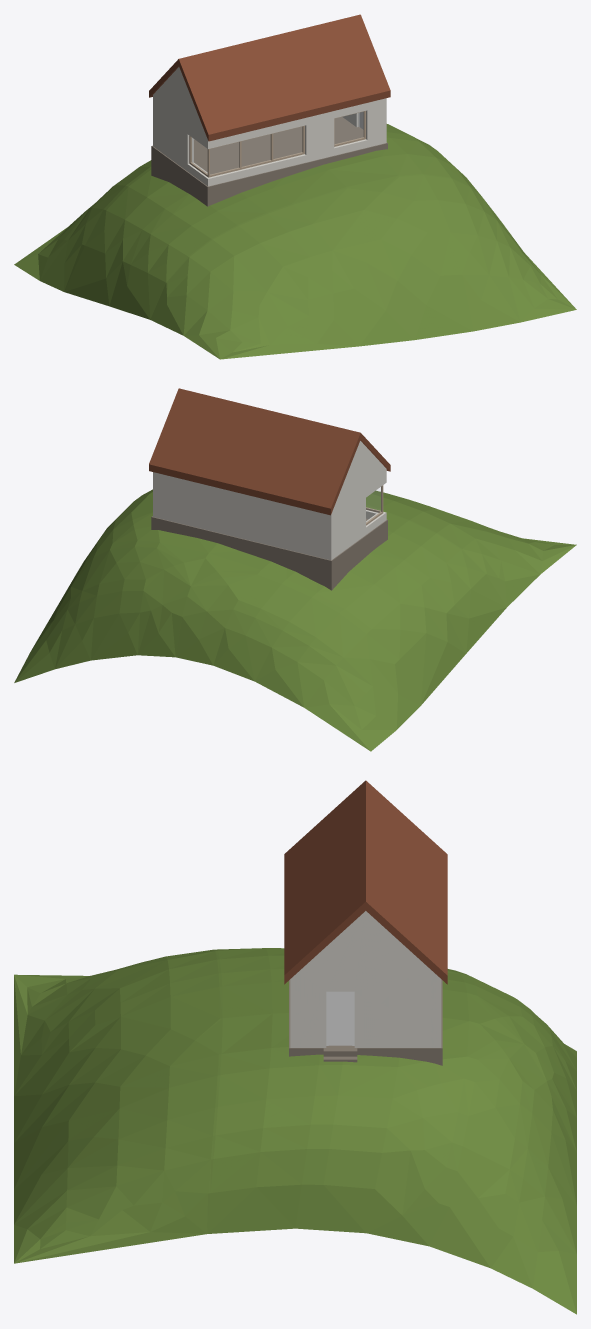
The model's file is IfcOpenHouse_buggy.gltf.
3 renders of one model, top to bottom at view 1: azimuth 30°, elevation 25°; view 2: azimuth 150°, elevation 25°; view 3: azimuth 270°, elevation 25°, orthographic. The views are drawn at different scales.
Visible parts, largest first — view 1: 3qGRFo0c5BxujvFRbsxaUk, 2FXcmLnmzDkvJMAGEXAVs0, 1NJPDRc3DDJh7rTsFCiSGq, 2tHa09veL10P9$ol9urWrT, 2DLuRGS9n41v3mwi$qFb98; view 2: 3qGRFo0c5BxujvFRbsxaUk, 18N1a2Stv7sxqrrx7MV9nk, 2QWXTZZeTC6Bkze5LSo5bN, 1NJPDRc3DDJh7rTsFCiSGq, 2DLuRGS9n41v3mwi$qFb98; view 3: 3qGRFo0c5BxujvFRbsxaUk, 0_LDtxH_XBNOcVliPeWOvq, 2FXcmLnmzDkvJMAGEXAVs0, 18N1a2Stv7sxqrrx7MV9nk, 1NJPDRc3DDJh7rTsFCiSGq, 14fJQk5KjC6AmMSkpZnWCw, 2tHa09veL10P9$ol9urWrT, 2QWXTZZeTC6Bkze5LSo5bN.
Part boxes in pixels (x1=…): 3qGRFo0c5BxujvFRbsxaUk: x1=14, y1=124, x2=576, y2=359; 2FXcmLnmzDkvJMAGEXAVs0: x1=178, y1=14, x2=390, y2=141; 1NJPDRc3DDJh7rTsFCiSGq: x1=151, y1=117, x2=387, y2=206; 2tHa09veL10P9$ol9urWrT: x1=204, y1=98, x2=386, y2=186; 2DLuRGS9n41v3mwi$qFb98: x1=156, y1=67, x2=207, y2=183; 3qGRFo0c5BxujvFRbsxaUk: x1=14, y1=489, x2=576, y2=751; 18N1a2Stv7sxqrrx7MV9nk: x1=149, y1=388, x2=360, y2=515; 2QWXTZZeTC6Bkze5LSo5bN: x1=153, y1=472, x2=334, y2=560; 1NJPDRc3DDJh7rTsFCiSGq: x1=151, y1=516, x2=387, y2=590; 2DLuRGS9n41v3mwi$qFb98: x1=335, y1=441, x2=384, y2=557; 3qGRFo0c5BxujvFRbsxaUk: x1=14, y1=948, x2=576, y2=1314; 0_LDtxH_XBNOcVliPeWOvq: x1=295, y1=911, x2=435, y2=1047; 2FXcmLnmzDkvJMAGEXAVs0: x1=284, y1=780, x2=365, y2=984; 18N1a2Stv7sxqrrx7MV9nk: x1=366, y1=780, x2=447, y2=984; 1NJPDRc3DDJh7rTsFCiSGq: x1=289, y1=979, x2=442, y2=1065; 14fJQk5KjC6AmMSkpZnWCw: x1=326, y1=991, x2=354, y2=1045; 2tHa09veL10P9$ol9urWrT: x1=290, y1=971, x2=300, y2=1047; 2QWXTZZeTC6Bkze5LSo5bN: x1=431, y1=971, x2=441, y2=1047.
Bounding box in the file's own units: 20 × 13.91 × 20.
